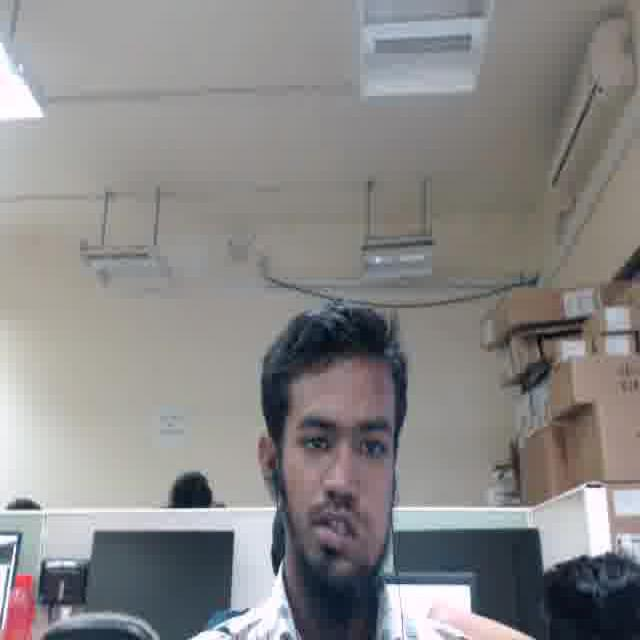Engaged: (281, 367, 398, 577)
